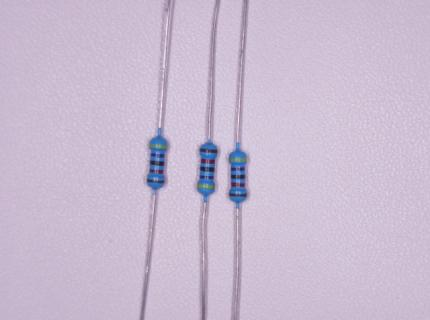Black band: (151, 161, 165, 166), (201, 167, 214, 172), (232, 175, 245, 179)
Brown band: (147, 179, 164, 183), (200, 149, 217, 153), (230, 193, 247, 197)
Red band: (150, 169, 163, 174), (231, 183, 245, 187), (201, 159, 214, 163)
Violet band: (151, 154, 165, 158), (231, 167, 244, 171), (200, 176, 214, 179)
Yellow band: (149, 143, 167, 148), (198, 184, 214, 188), (229, 158, 246, 161)
